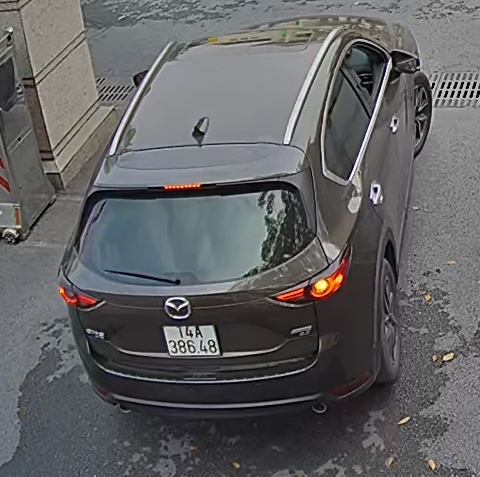vehicle plate: (160, 316, 219, 361)
